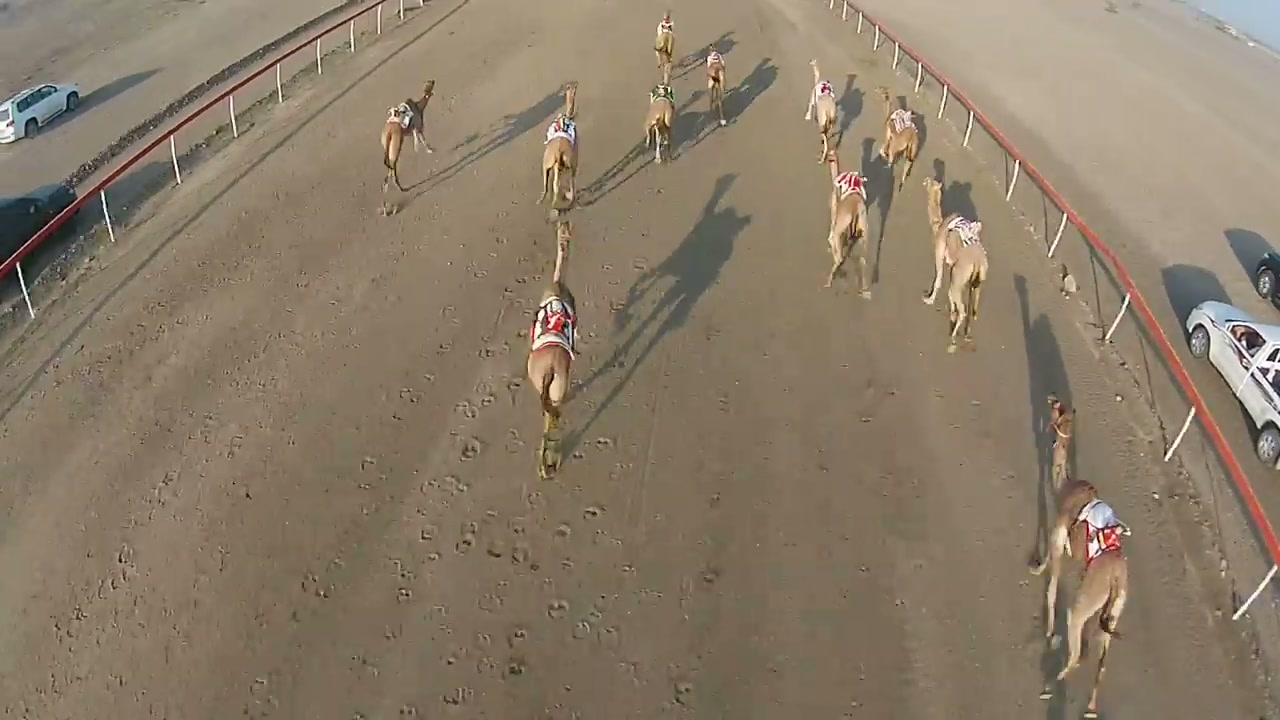animal_footprint: (35, 230, 735, 719)
